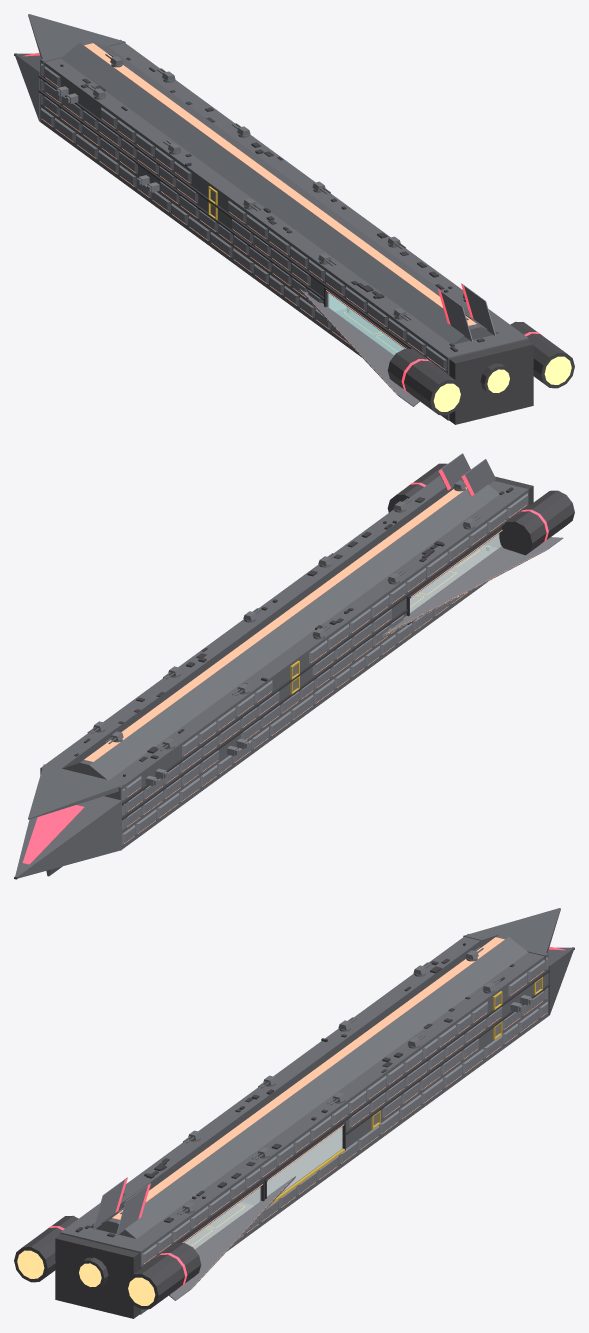
Rendered from ship_XL_v3.glb.
The picture shows the model from 3 angles, top to bottom: view 1: azimuth 30°, elevation 25°; view 2: azimuth 150°, elevation 25°; view 3: azimuth 330°, elevation 25°; orthographic projection.
Visible parts, largest first — view 1: XL_Hull-col, XL_Armor, XL_Engines, XL_Lights, XL_Trim, XL_EngineGlow, XL_Details, XL_HangarShield_Port, XL_Decks-col; view 2: XL_Hull-col, XL_Armor, XL_Lights, XL_Engines, XL_Trim, XL_Accent, XL_HangarShield_Port, XL_Decks-col, XL_Details; view 3: XL_Hull-col, XL_Armor, XL_Engines, XL_Lights, XL_Trim, XL_EngineGlow, XL_CargoBayShield, XL_CargoBayDoor-col, XL_Details, XL_HangarShield_Starboard, XL_Decks-col, XL_Hazard.
Part boxes in pixels (x1,y1,x2,y2): XL_Hull-col: [15, 14, 528, 420]; XL_Armor: [40, 63, 495, 406]; XL_Engines: [14, 53, 574, 424]; XL_Lights: [41, 43, 476, 394]; XL_Trim: [38, 75, 448, 374]; XL_EngineGlow: [433, 356, 571, 411]; XL_Details: [60, 57, 484, 351]; XL_HangarShield_Port: [328, 293, 404, 354]; XL_Decks-col: [335, 309, 404, 354]; XL_Hull-col: [15, 476, 528, 878]; XL_Armor: [121, 453, 563, 844]; XL_Lights: [84, 487, 546, 843]; XL_Engines: [14, 463, 574, 879]; XL_Trim: [122, 505, 529, 820]; XL_Accent: [22, 469, 548, 864]; XL_HangarShield_Port: [410, 534, 501, 612]; XL_Decks-col: [410, 545, 497, 612]; XL_Details: [74, 487, 513, 776]; XL_Hull-col: [60, 908, 573, 1314]; XL_Armor: [93, 957, 548, 1300]; XL_Engines: [14, 947, 574, 1318]; XL_Lights: [112, 937, 547, 1288]; XL_Trim: [140, 969, 550, 1268]; XL_EngineGlow: [17, 1250, 155, 1305]; XL_CargoBayShield: [267, 1127, 342, 1196]; XL_CargoBayDoor-col: [267, 1127, 341, 1196]; XL_Details: [75, 943, 514, 1237]; XL_HangarShield_Starboard: [184, 1187, 260, 1248]; XL_Decks-col: [184, 1202, 253, 1248]; XL_Hazard: [191, 977, 542, 1246].
Size of the model in its own units: 42.61 by 29.45 by 240.
